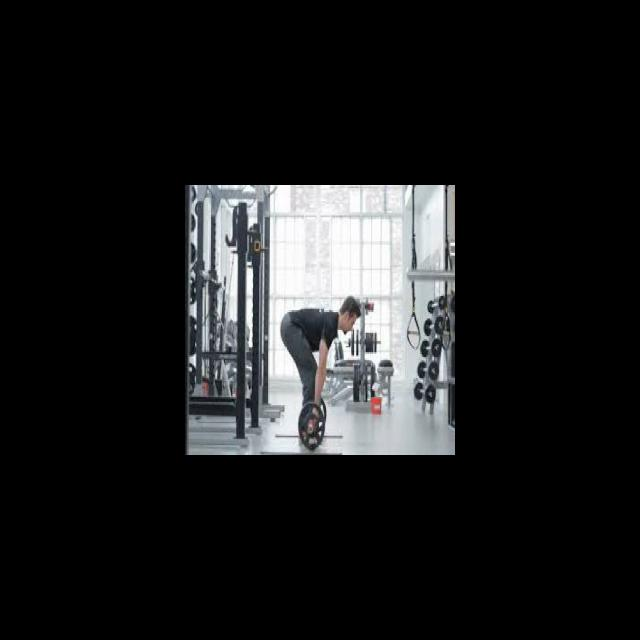barbell: (295, 400, 327, 452)
